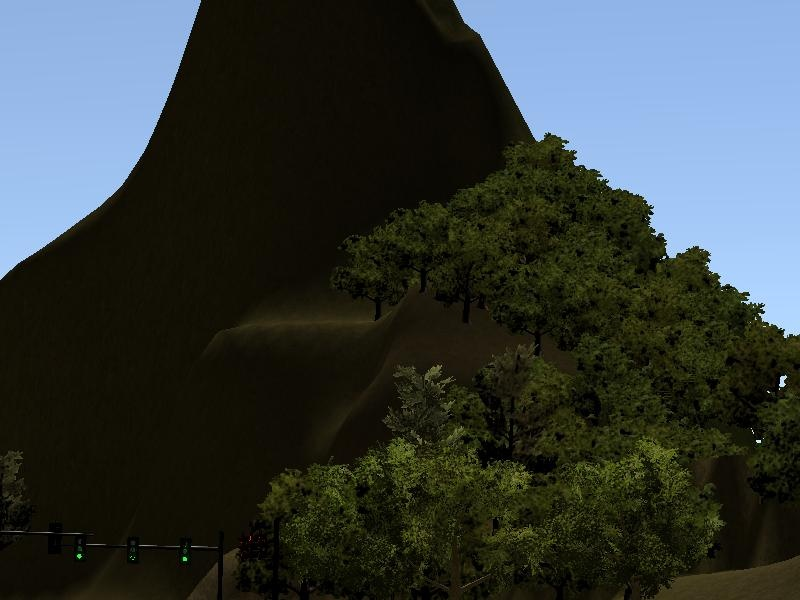GREEN: (174, 531, 195, 569), (69, 531, 91, 566)
